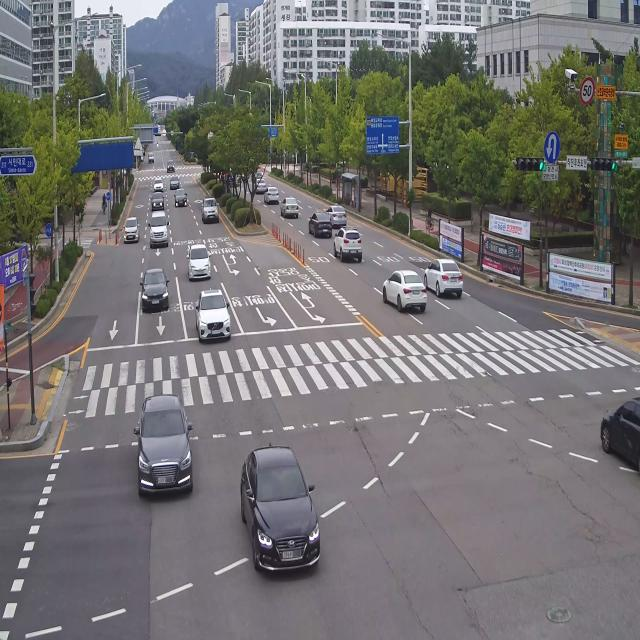Car: (231, 434, 327, 600), (131, 390, 194, 523), (590, 369, 640, 485), (194, 274, 243, 354), (383, 261, 432, 322), (124, 255, 177, 310), (427, 249, 477, 296), (328, 215, 367, 270), (185, 234, 219, 284), (149, 205, 178, 253), (195, 193, 227, 234), (302, 204, 334, 242), (281, 189, 307, 221), (119, 211, 139, 250), (326, 200, 349, 228), (263, 183, 280, 208), (173, 185, 189, 211), (149, 190, 167, 211), (254, 174, 268, 196), (154, 175, 165, 193), (253, 165, 264, 183), (170, 174, 180, 190), (165, 160, 179, 171), (148, 151, 156, 165)
